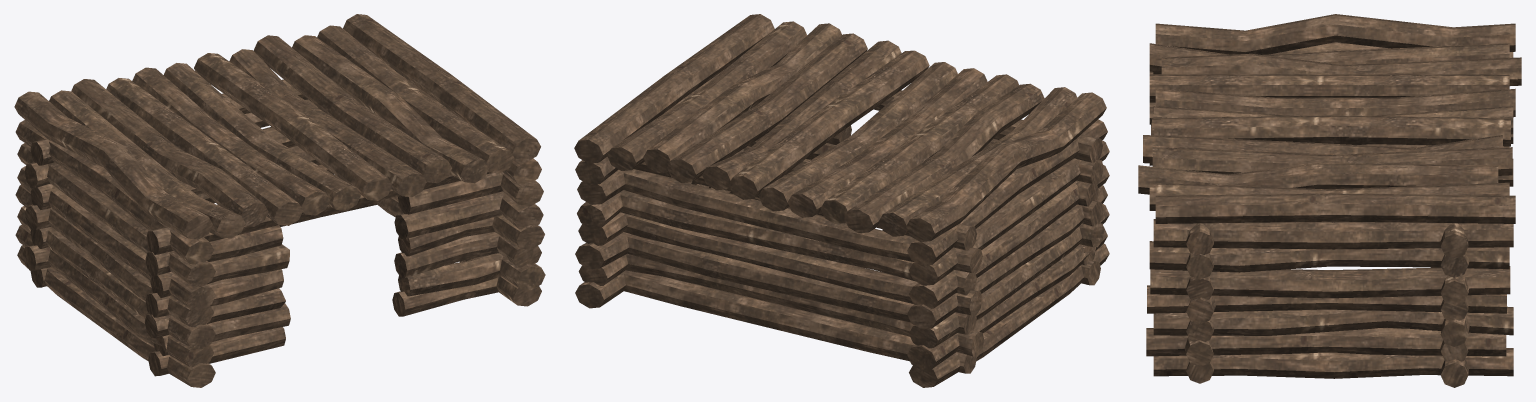
Rendered from shack_low.glb.
3 views of the same model, side by side, from view 1: azimuth 30°, elevation 25°; view 2: azimuth 150°, elevation 25°; view 3: azimuth 270°, elevation 25° (orthographic). The views are drawn at different scales.
Parts seen in each view (by area): view 1: shack_low; view 2: shack_low; view 3: shack_low.
Part boxes in pixels (left/top/right/bottom): shack_low: left=14, top=14, right=545, bottom=387; shack_low: left=574, top=14, right=1109, bottom=387; shack_low: left=1138, top=14, right=1521, bottom=387.
Size of the model in its own units: 7.49 by 3.36 by 6.15.
Materials: 1 (1 with a texture image).
